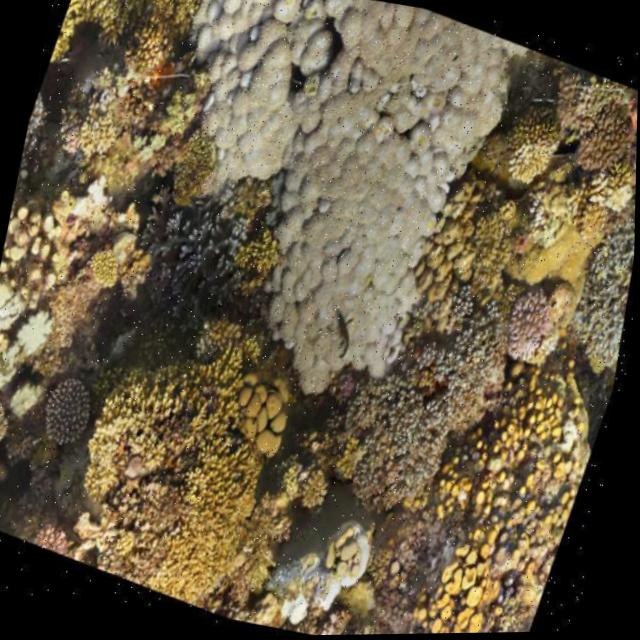Bleached Coral: (244, 0, 527, 395), (168, 0, 405, 211)
